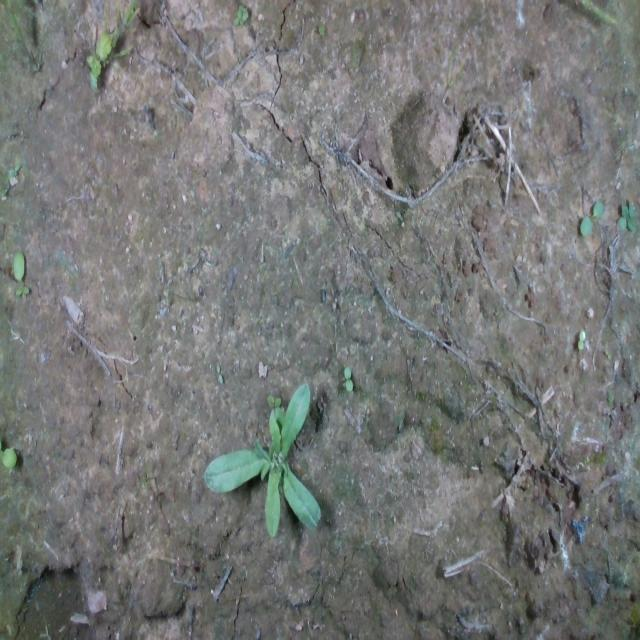weed: (578, 198, 604, 238), (615, 200, 637, 231), (342, 363, 354, 392), (576, 328, 586, 349)
